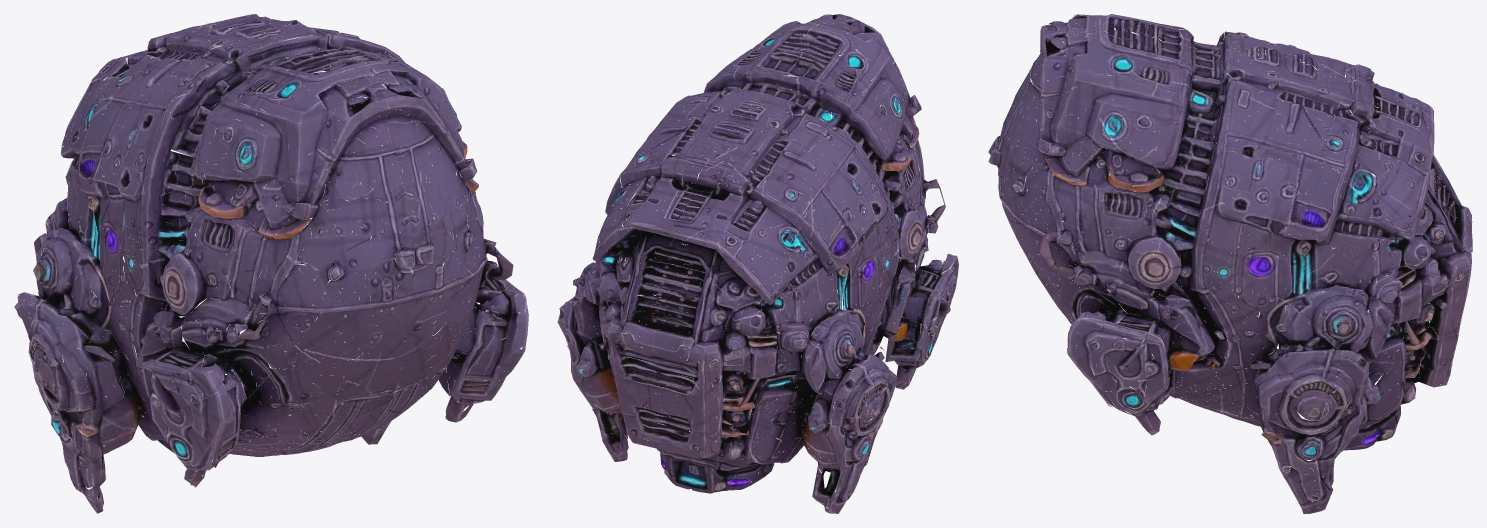
The model's file is enemy_destroyer.glb.
3 renders of one model, left to right at view 1: azimuth 30°, elevation 25°; view 2: azimuth 150°, elevation 25°; view 3: azimuth 270°, elevation 25°, orthographic. The views are drawn at different scales.
Visible parts, largest first — view 1: tripo_node_c168fcad-58e7-48f8-b004-b42705fe54e1; view 2: tripo_node_c168fcad-58e7-48f8-b004-b42705fe54e1; view 3: tripo_node_c168fcad-58e7-48f8-b004-b42705fe54e1.
Boxes of the visible parts, <box> form: tripo_node_c168fcad-58e7-48f8-b004-b42705fe54e1: <box>14,14,528,513</box>; tripo_node_c168fcad-58e7-48f8-b004-b42705fe54e1: <box>557,14,958,513</box>; tripo_node_c168fcad-58e7-48f8-b004-b42705fe54e1: <box>988,14,1472,513</box>.
Bounding box in the file's own units: 0.8086 × 0.9815 × 0.997.
1 material, 1 textured.
